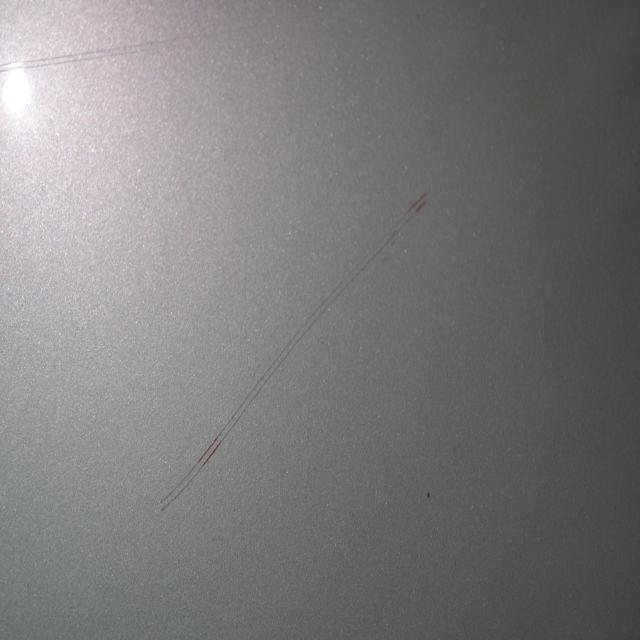scratch: (155, 184, 430, 513)
